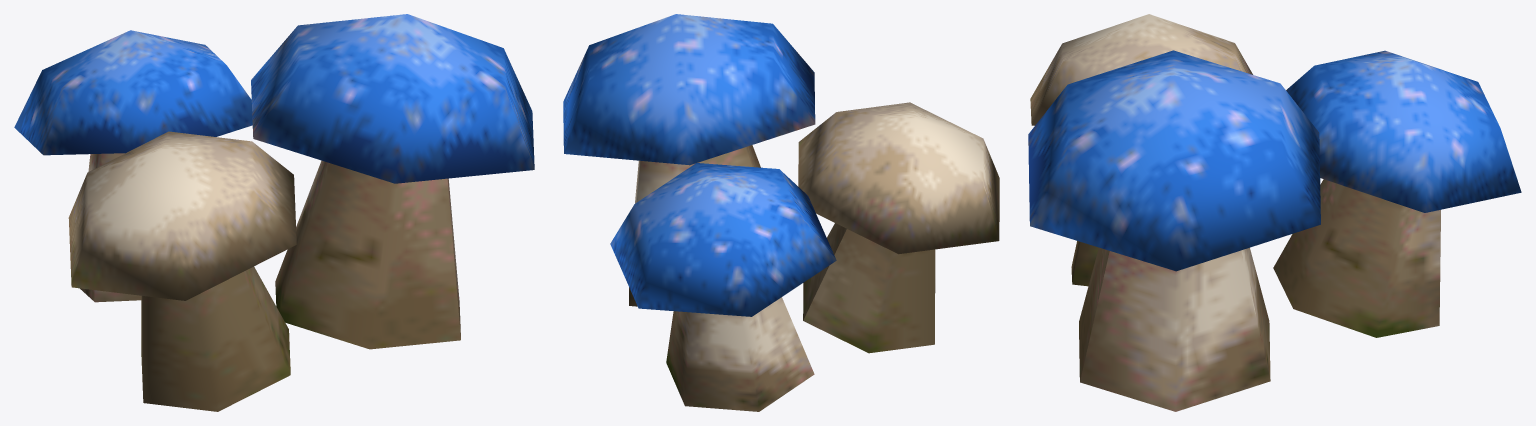
Rendered from 10104_mushroom01.FBX.
3 views of the same model, side by side, from view 1: azimuth 30°, elevation 25°; view 2: azimuth 150°, elevation 25°; view 3: azimuth 270°, elevation 25° (orthographic). The views are drawn at different scales.
Parts seen in each view (by area): view 1: Object001; view 2: Object001; view 3: Object001.
Boxes of the visible parts, <box> form: Object001: <box>14,14,534,411</box>; Object001: <box>563,14,999,411</box>; Object001: <box>1028,14,1521,411</box>.
Bounding box in the file's own units: 53.03 × 33.32 × 46.51.
1 material, 1 textured.
